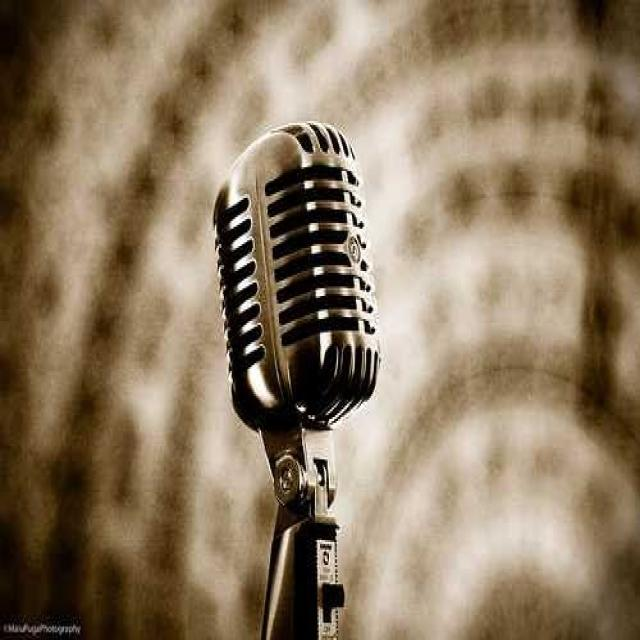microphone: (213, 93, 422, 495)
